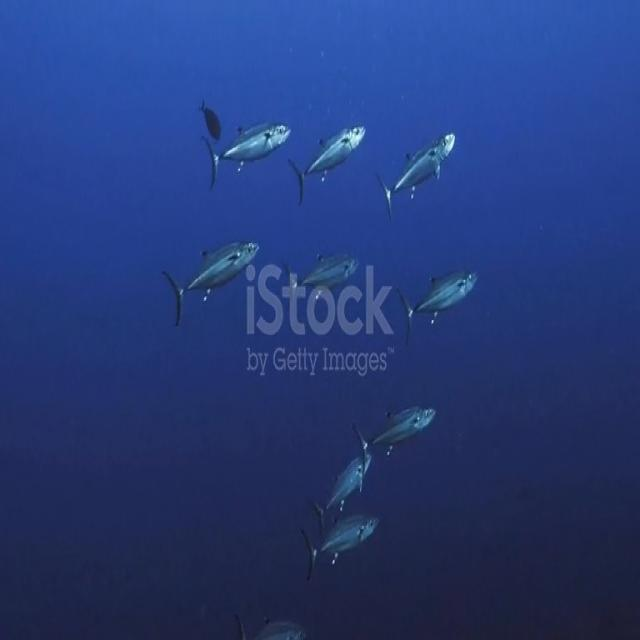fish: (165, 236, 262, 326), (377, 128, 456, 214), (298, 508, 388, 582), (291, 119, 368, 204), (203, 122, 294, 186), (400, 268, 480, 340), (356, 400, 438, 469), (287, 249, 366, 311), (316, 448, 372, 532), (238, 615, 306, 640), (197, 104, 224, 140)
